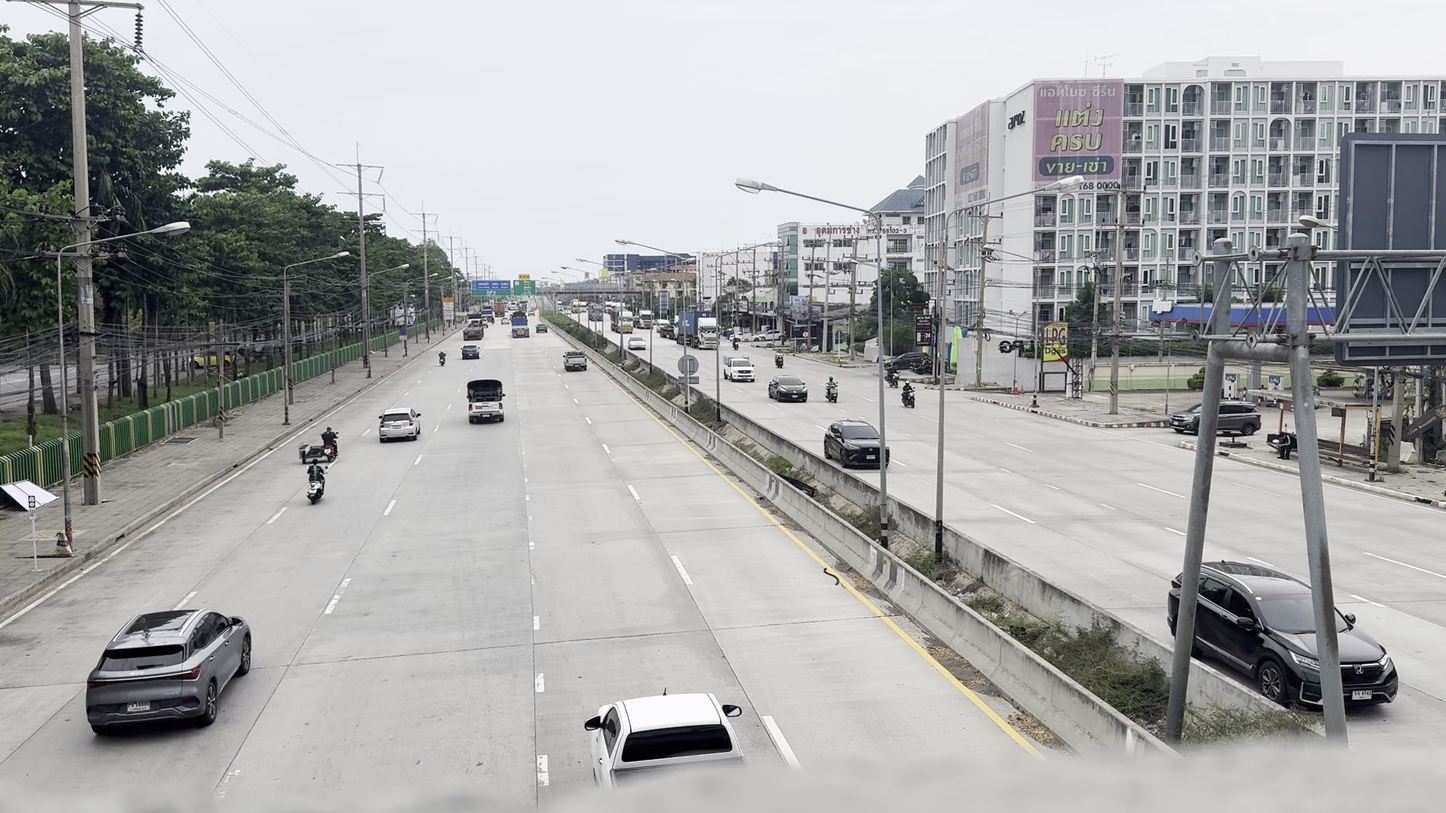car: (1174, 567, 1399, 714), (85, 608, 252, 734), (582, 691, 740, 781), (1168, 397, 1259, 437), (823, 418, 888, 470), (0, 480, 58, 515), (467, 376, 505, 424), (378, 409, 420, 443), (768, 373, 809, 402), (1168, 403, 1202, 432), (724, 359, 756, 382), (563, 353, 588, 373)
motorbike: (302, 441, 328, 504)
truck: (466, 377, 505, 424), (677, 307, 720, 347)
